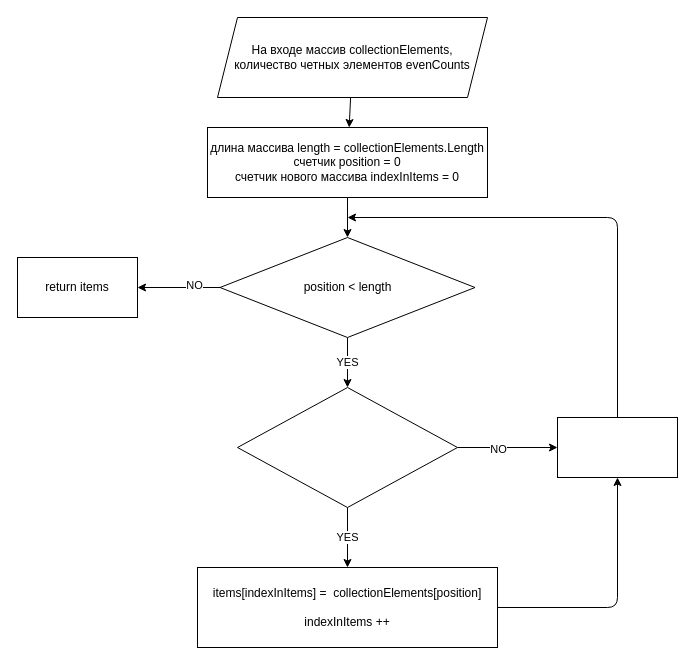
Some shapes in this 695 by 665 pixel diagram are drawn without their labels. Here are the shapes that lost their labels. From the top down, the box of each, then its label:
(236, 386, 458, 508): collectionElements[position] % = 0
(556, 416, 678, 478): position ++
